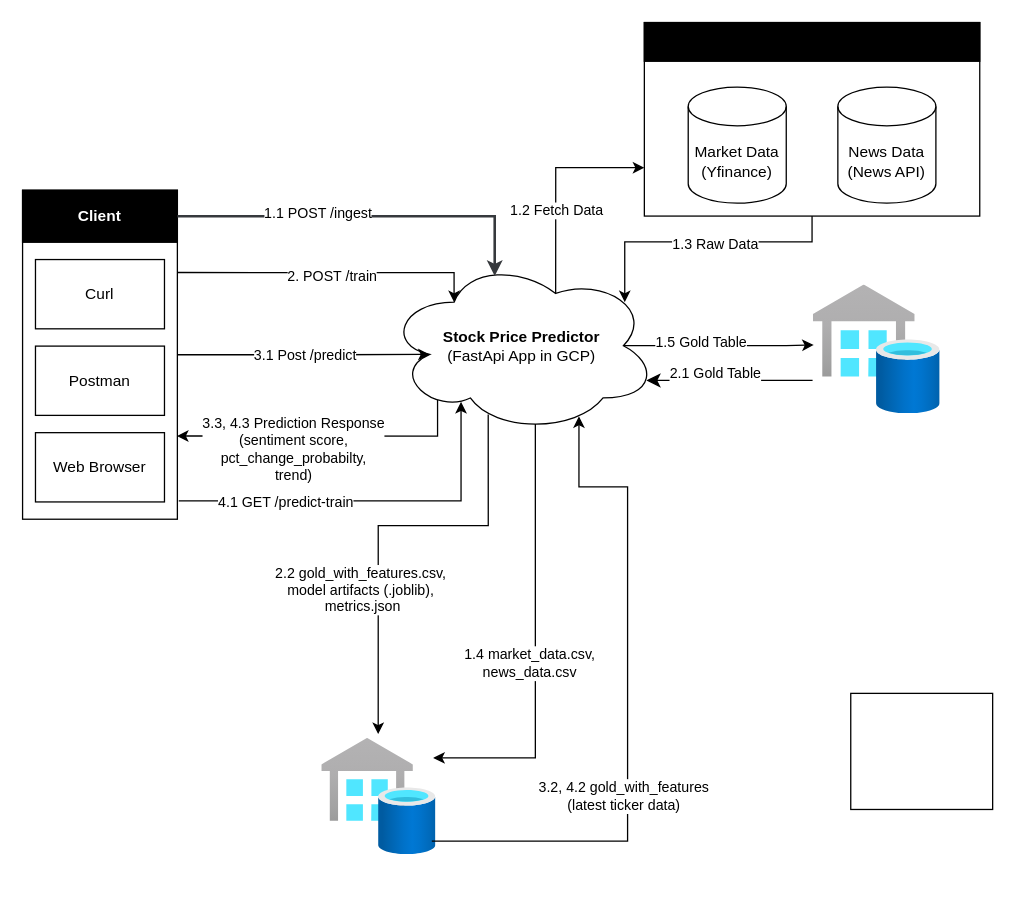
Some shapes in this 1015 by 924 pixel diagram are drawn without their labels. Here are the shapes that lost their labels. From the top down, the box of each, then its label:
(643, 21, 980, 61): Data Ingestion
(813, 284, 940, 413): BigQuery
(849, 692, 993, 809): 1 - Data Ingestion 2 - Training 3 - Prediction (API) 4 - Prediction (UI)
(321, 738, 436, 854): Google Cloud Storage (GCS)
